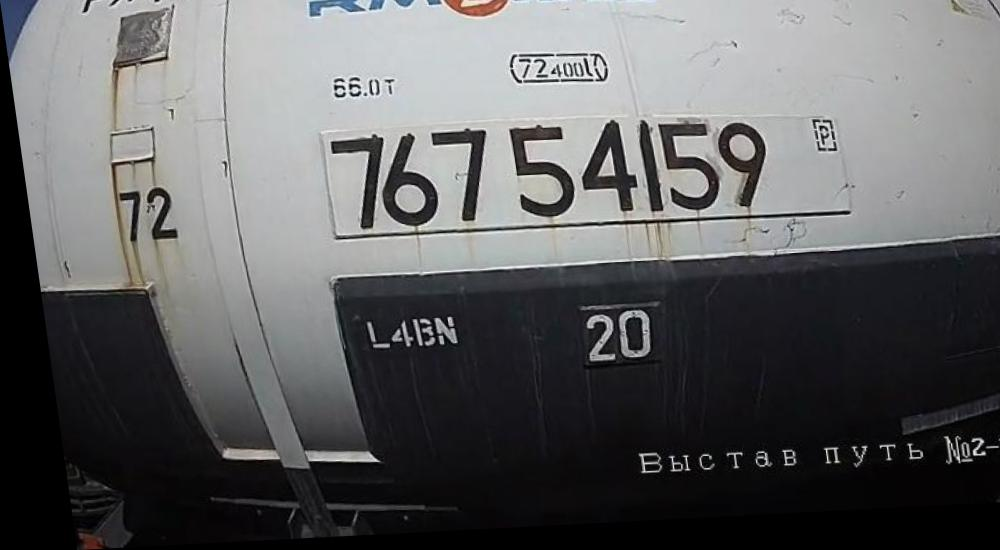Wagon-number: (321, 119, 773, 239)
